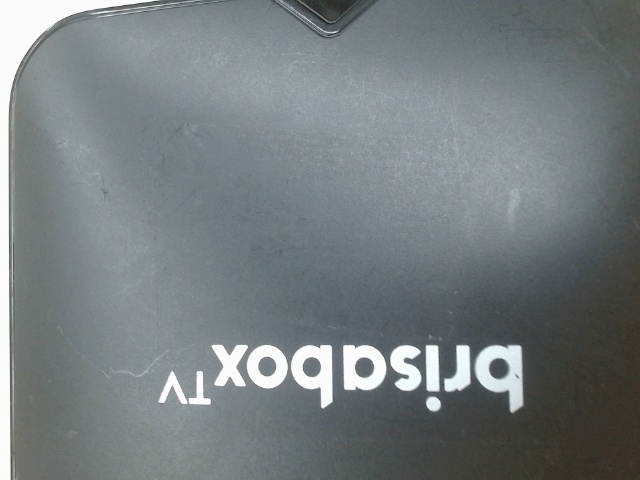AH_brisabox: (144, 316, 533, 426)
